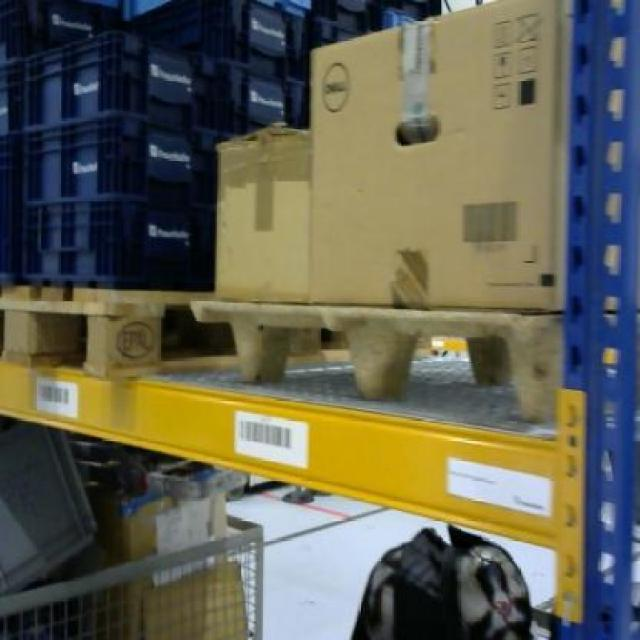box: (310, 1, 568, 314), (208, 121, 314, 304)
